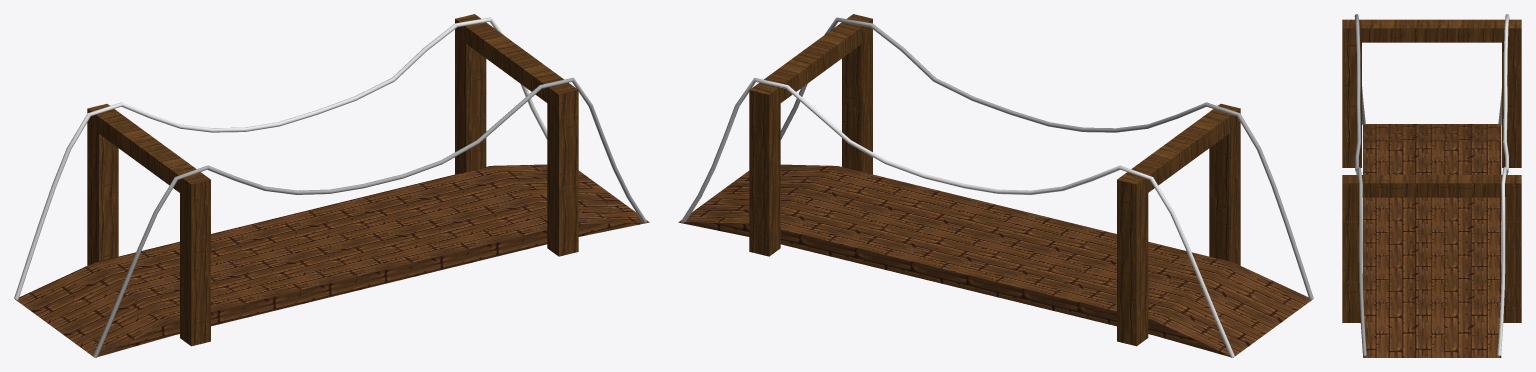
File: bridge.fbx
The picture shows the model from 3 angles, left to right: view 1: azimuth 30°, elevation 25°; view 2: azimuth 150°, elevation 25°; view 3: azimuth 270°, elevation 25°; orthographic projection. The views are drawn at different scales.
Visible parts, largest first — view 1: polySurface1, polySurface2, polySurface3, polySurface4, polySurface5; view 2: polySurface1, polySurface2, polySurface3, polySurface5, polySurface4; view 3: polySurface1, polySurface2, polySurface3, polySurface5, polySurface4.
Boxes of the visible parts, x1,y1,x2,y2 form: polySurface1: (15, 164, 649, 357); polySurface2: (87, 104, 210, 346); polySurface3: (455, 14, 578, 256); polySurface4: (93, 77, 646, 357); polySurface5: (14, 17, 547, 299); polySurface1: (678, 164, 1312, 357); polySurface2: (1117, 104, 1240, 346); polySurface3: (749, 14, 872, 256); polySurface5: (681, 77, 1234, 357); polySurface4: (780, 17, 1313, 299); polySurface1: (1363, 124, 1501, 357); polySurface2: (1342, 19, 1521, 167); polySurface3: (1342, 175, 1521, 322); polySurface5: (1497, 14, 1509, 355); polySurface4: (1354, 14, 1366, 355).
Size of the model in its own units: 16.86 by 4.88 by 5.45.
